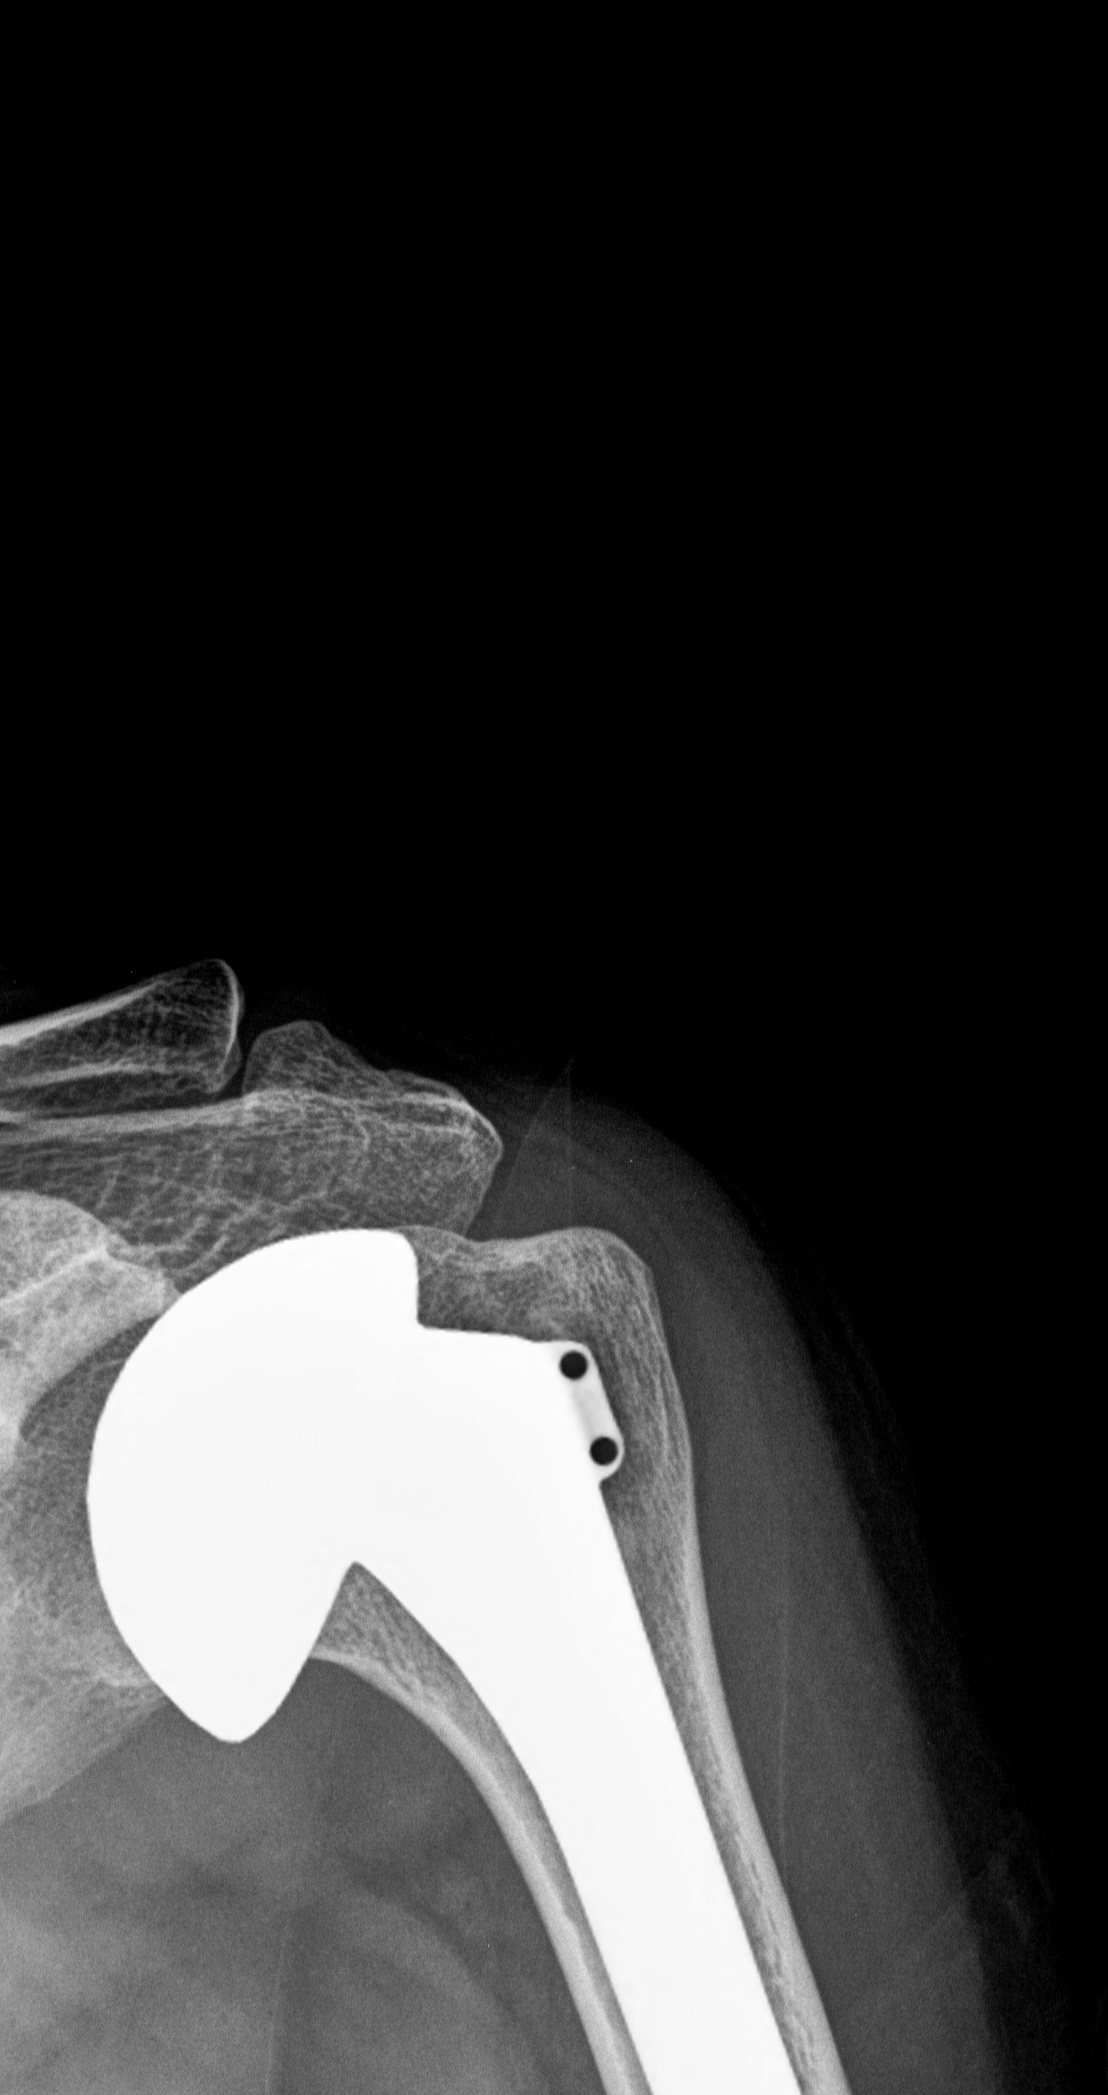Shoulder - AequalisPressfit - Tornier: (69, 1205, 637, 1756)
